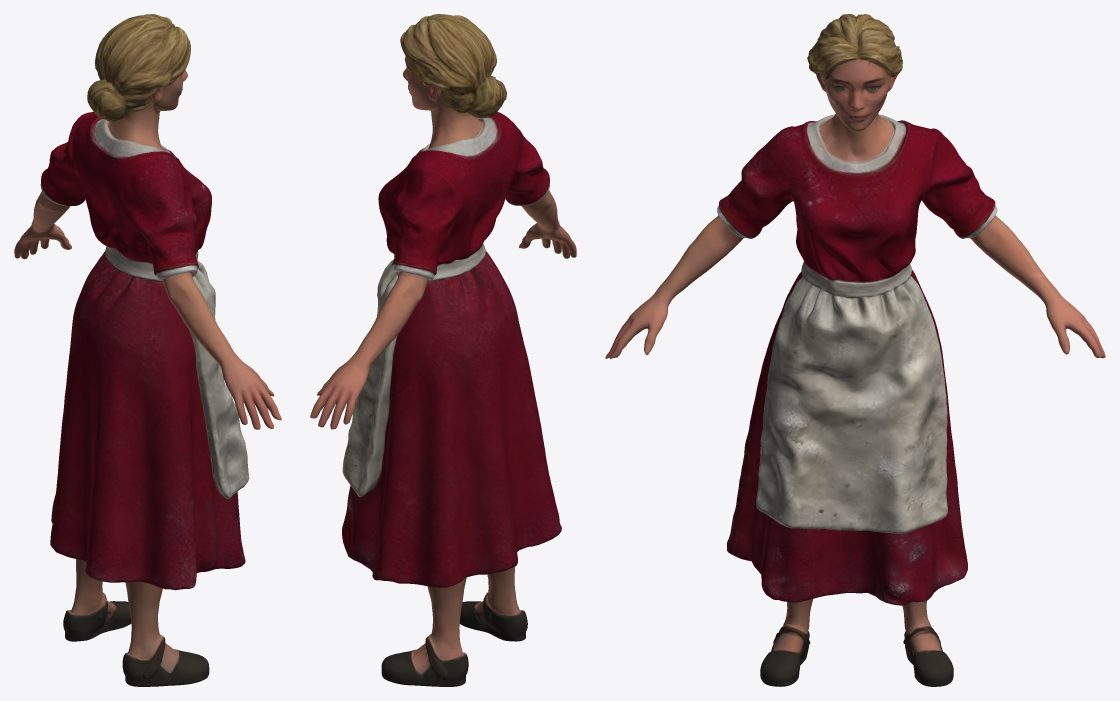
3 views of the same model, side by side, from view 1: azimuth 30°, elevation 25°; view 2: azimuth 150°, elevation 25°; view 3: azimuth 270°, elevation 25° (orthographic). The views are drawn at different scales.
Parts seen in each view (by area): view 1: tripo_node_a0e253eb-f8da-4723-84e8-e6f1f36d71f8; view 2: tripo_node_a0e253eb-f8da-4723-84e8-e6f1f36d71f8; view 3: tripo_node_a0e253eb-f8da-4723-84e8-e6f1f36d71f8.
Part boxes in pixels (x1,y1,x2,y2): tripo_node_a0e253eb-f8da-4723-84e8-e6f1f36d71f8: (14, 14, 281, 686); tripo_node_a0e253eb-f8da-4723-84e8-e6f1f36d71f8: (310, 14, 576, 686); tripo_node_a0e253eb-f8da-4723-84e8-e6f1f36d71f8: (605, 14, 1105, 686).
Size of the model in its own units: 0.2754 by 1 by 0.6901.
Materials: 1 (1 with a texture image).
